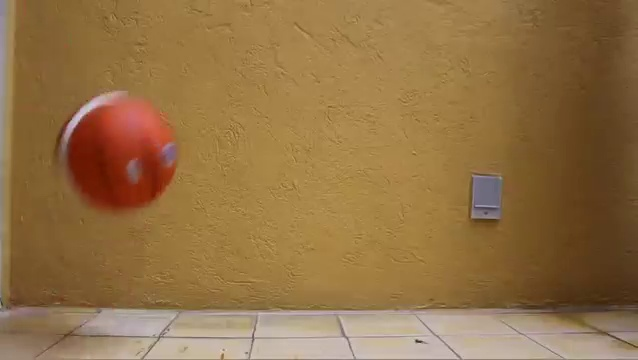ball: (53, 91, 178, 215)
